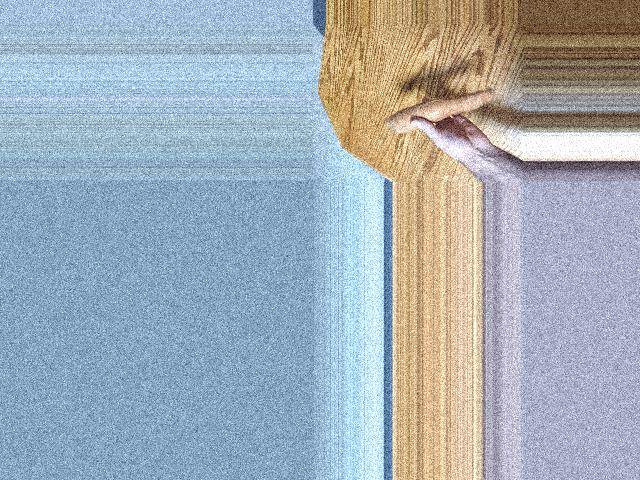sweet_potato: (388, 97, 500, 127)
